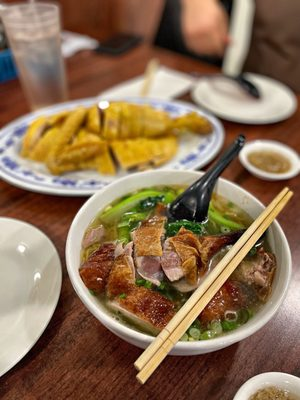pizza: (1, 0, 71, 112)
salad: (167, 134, 246, 223)
sushi: (65, 166, 296, 359), (132, 196, 294, 371), (0, 216, 62, 379), (238, 139, 300, 182)
